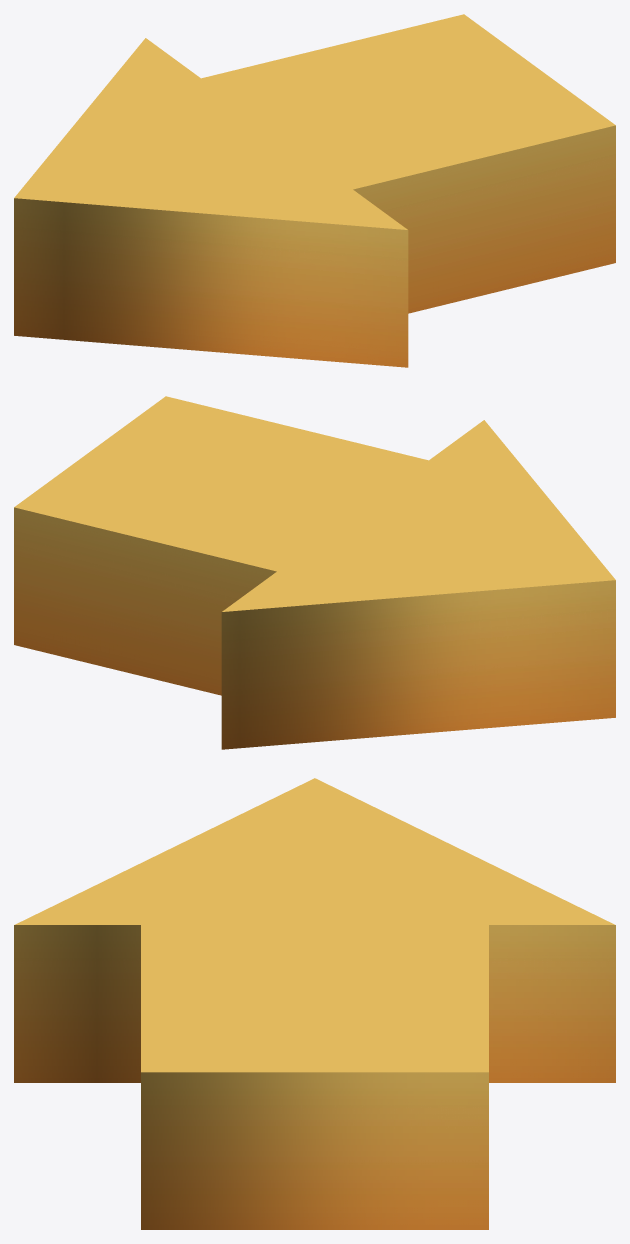
File: arrow-transformed.glb
3 views of the same model, one above another, from view 1: azimuth 30°, elevation 25°; view 2: azimuth 150°, elevation 25°; view 3: azimuth 270°, elevation 25° (orthographic). The views are drawn at different scales.
Parts seen in each view (by area): view 1: arrow; view 2: arrow; view 3: arrow.
Part boxes in pixels (x1,y1,x2,y2): arrow: (14,14,615,367); arrow: (14,396,615,749); arrow: (14,778,615,1229).
Bounding box in the file's own units: 0.8 × 0.2 × 0.692.
Materials: 1 (1 with a texture image).
